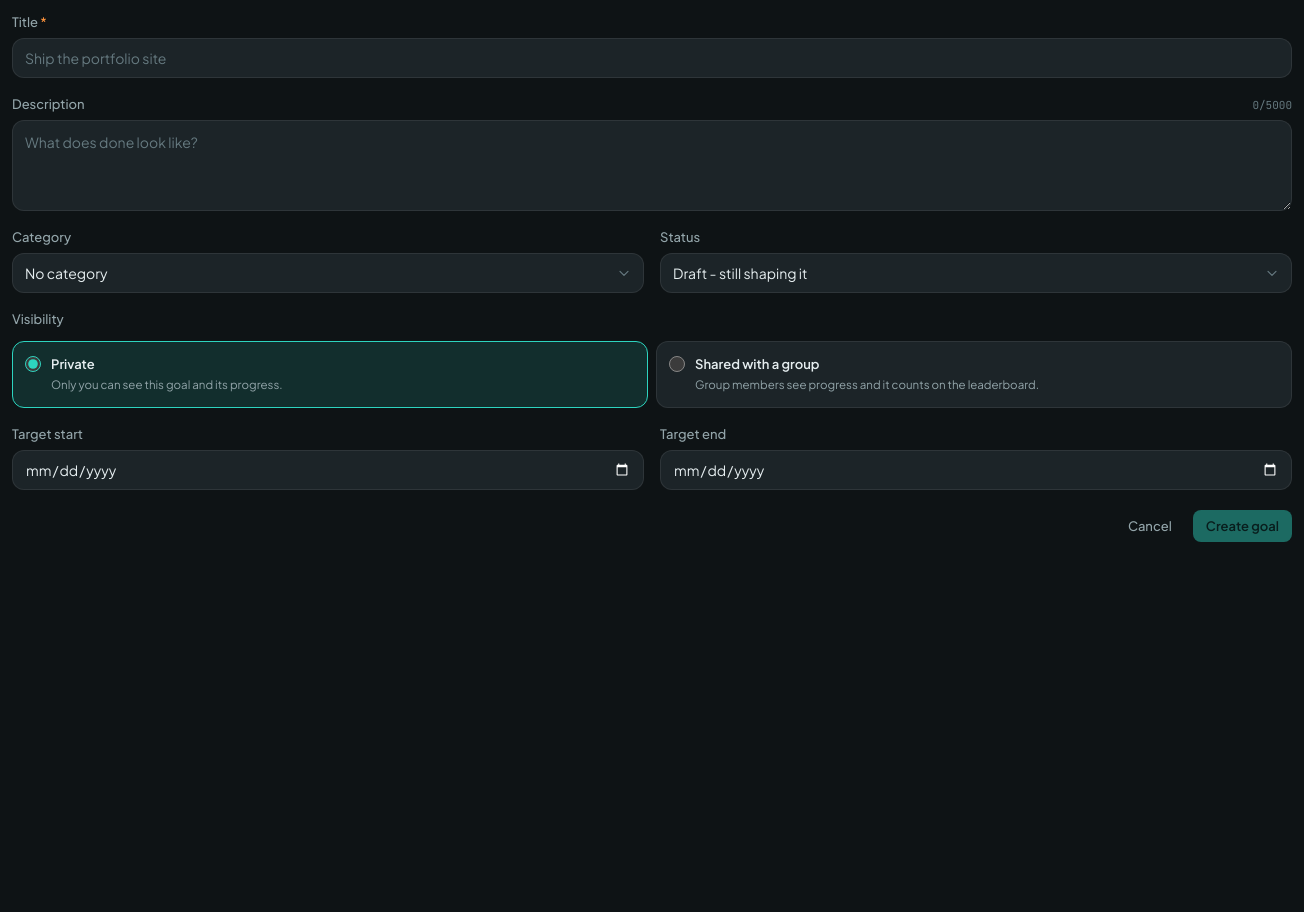
it: GoalForm validation states › requires a group once visibility is group, mirroring required_if
Type "Shared goal" into the field labelled "Title *" at coordinates (652, 58), box [12, 38, 1292, 78]
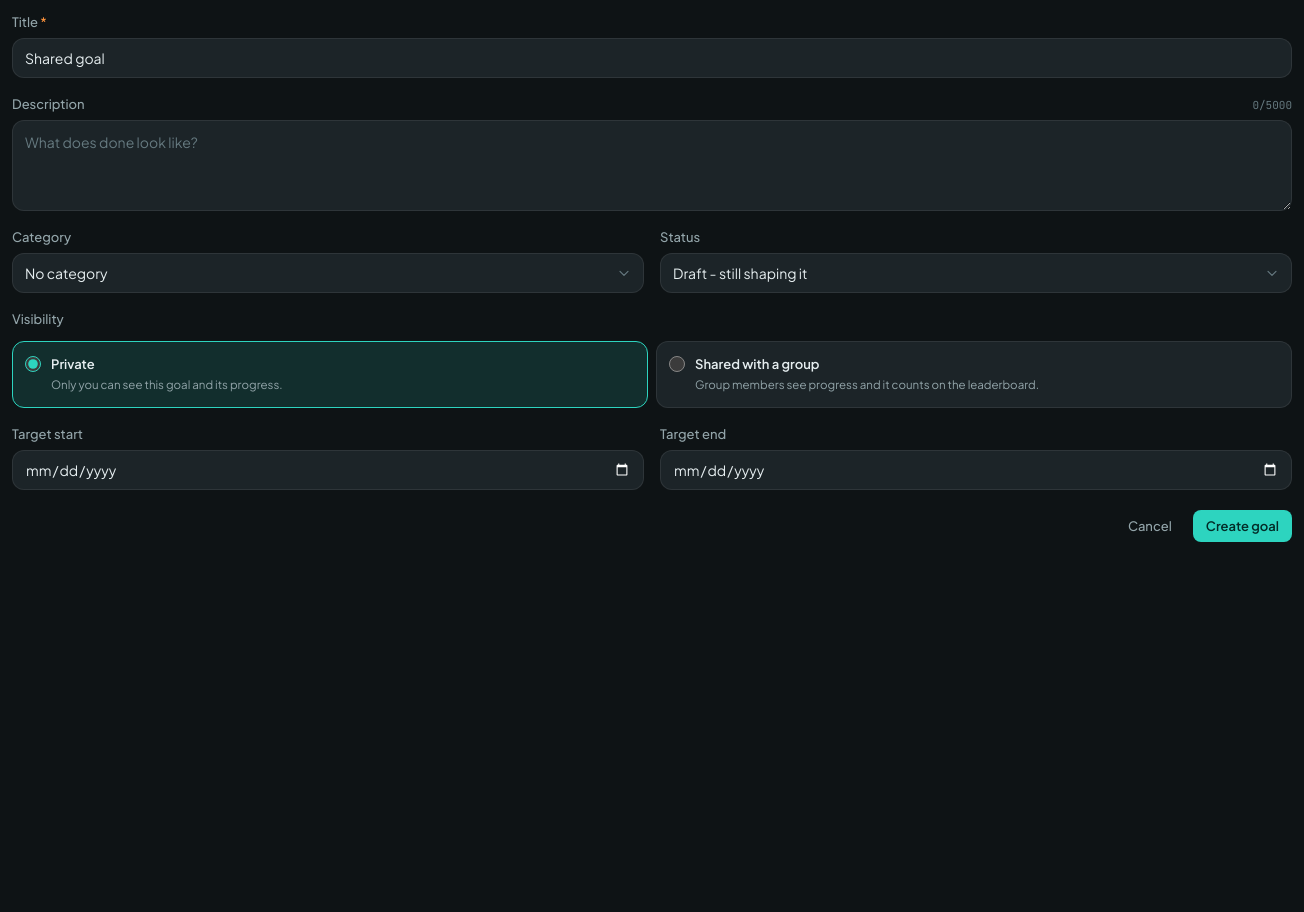
expect the button "Create goal" is enabled: met, box [1193, 510, 1292, 542]
Click the 2nd radio button at coordinates (677, 364), box [669, 356, 685, 372]
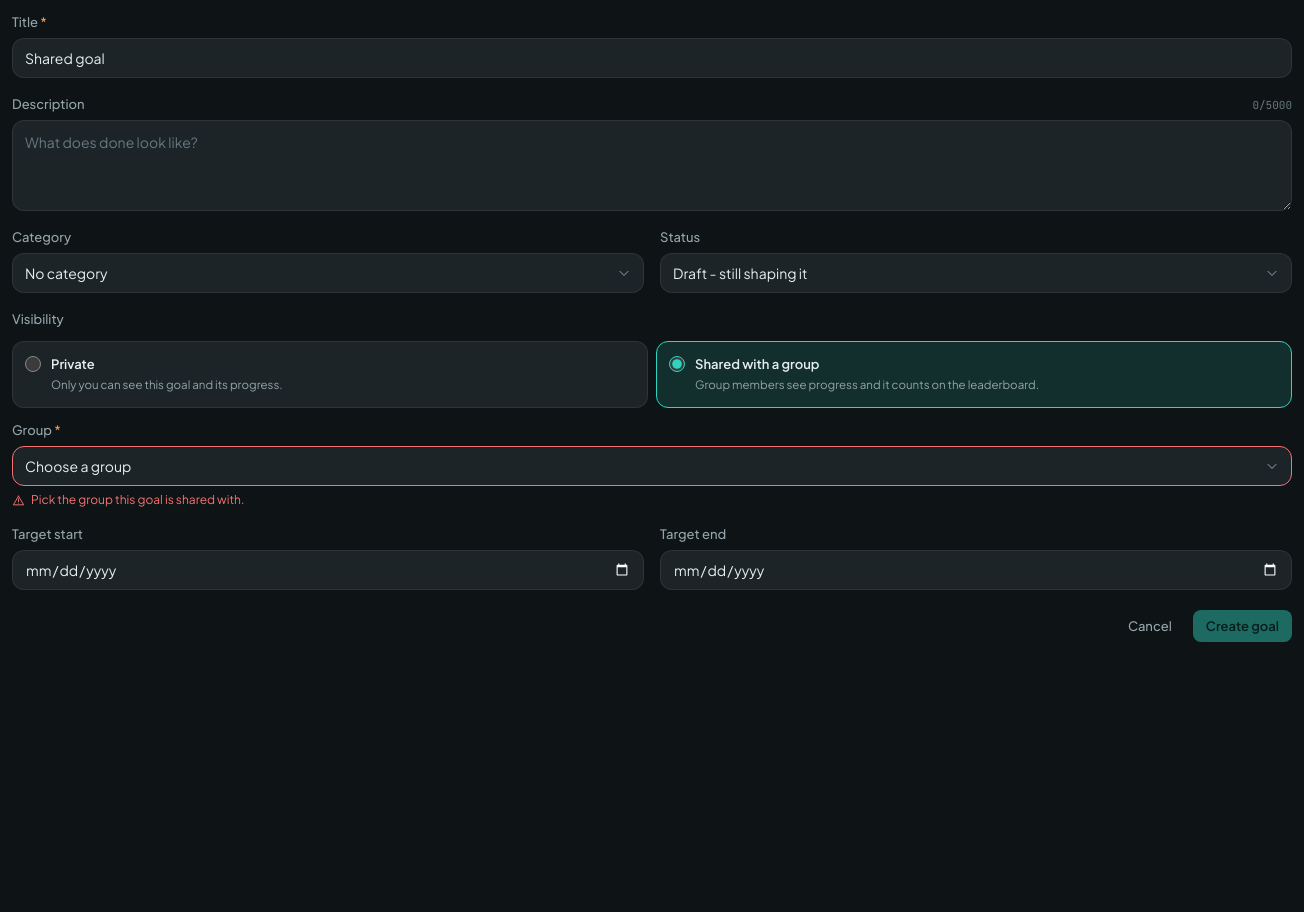
expect the dropdown labelled "Category" is shown: met, box [12, 253, 644, 293]
expect the button "Create goal" is disabled: met, box [1193, 610, 1292, 642]
expect the text "Pick the group this goal is shared with." is shown: met, box [31, 492, 244, 508]
